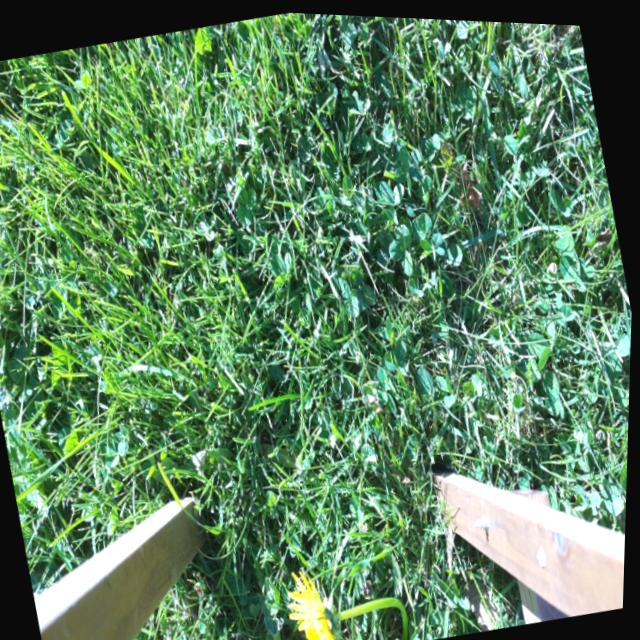base: (395, 616, 422, 640)
